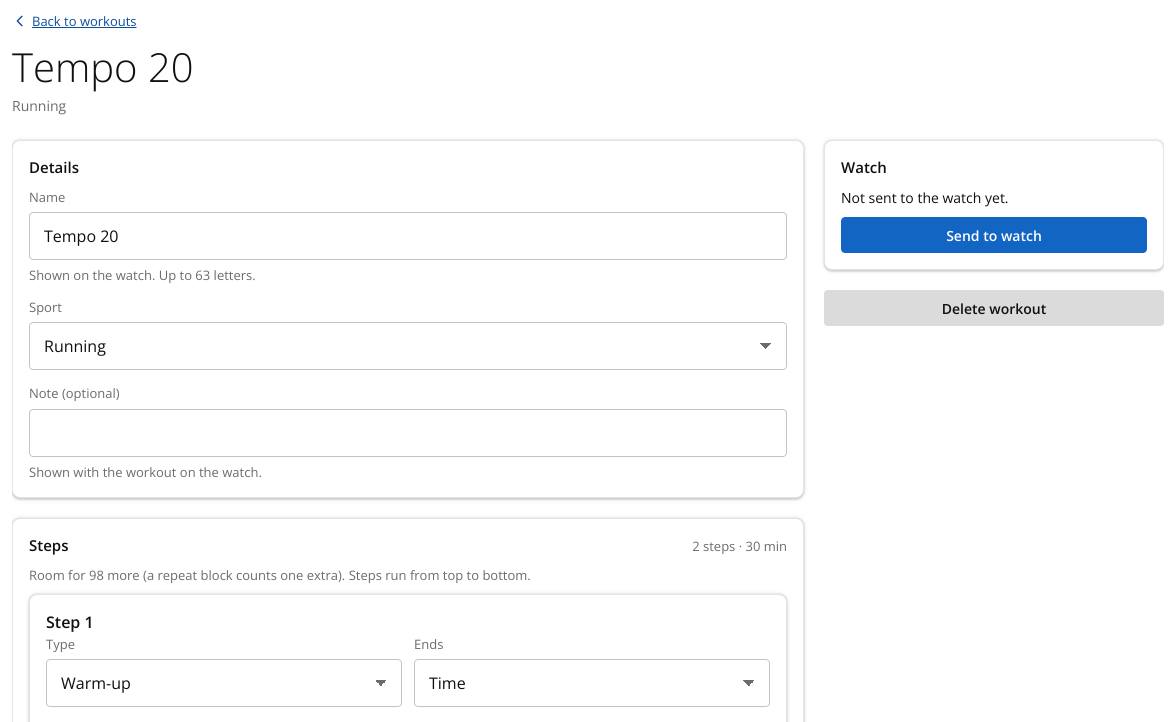
a saved workout › sends the saved version: with unsaved changes the button waits
The width and height of the screenshot is (1176, 722).
Check: the button "Send to watch" is enabled, box x1=841 y1=217 x2=1147 y2=253
Type "!" into the field labelled "Name" at {"x": 408, "y": 236}, box x1=29 y1=212 x2=787 y2=260
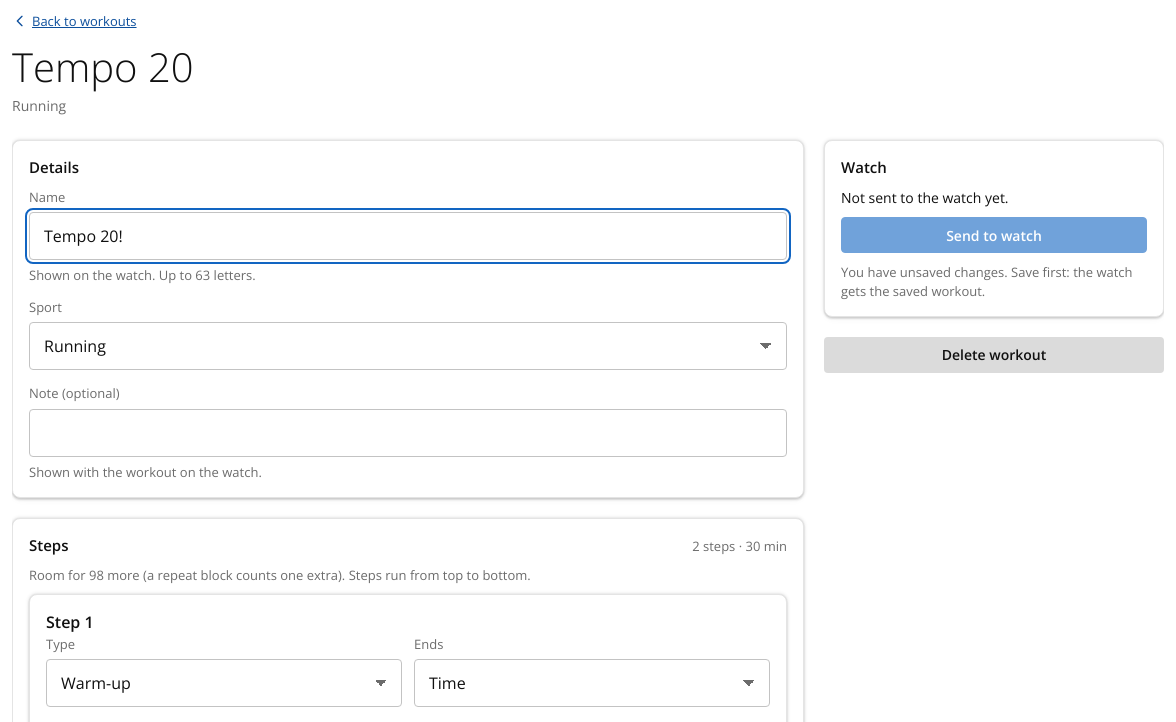
Check: the button "Send to watch" is disabled, box x1=841 y1=217 x2=1147 y2=253
Check: the text "You have unsaved changes. Save first" is shown, box x1=841 y1=263 x2=1133 y2=300
